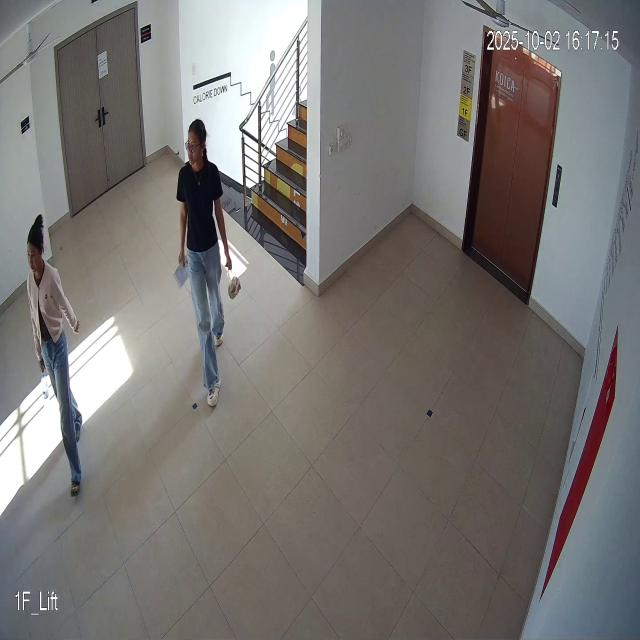face: (184, 115, 206, 173)
